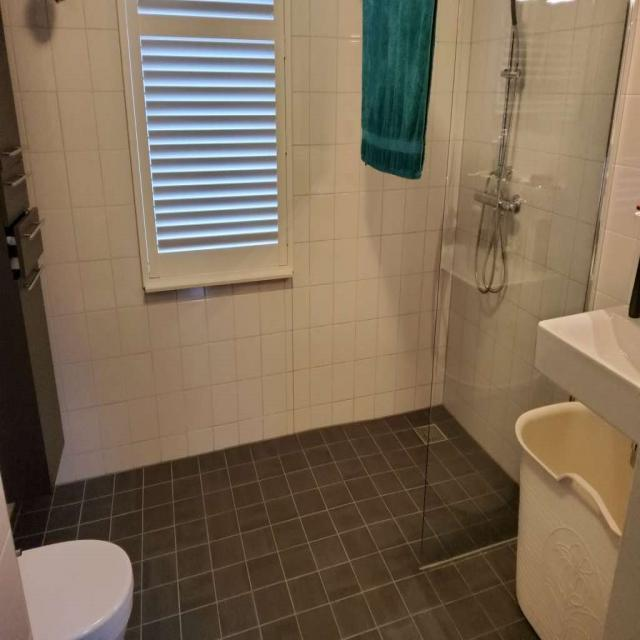douche: (414, 0, 630, 572)
toilet: (14, 537, 135, 640)
wastafel: (534, 296, 640, 443)
